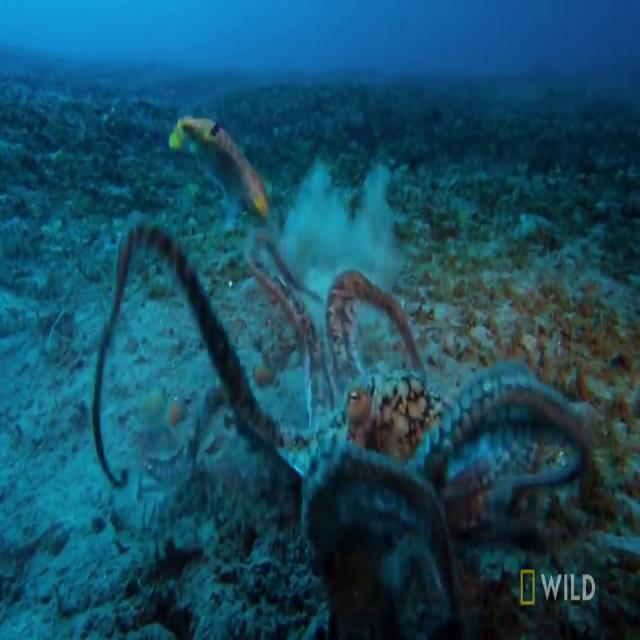octopus: (90, 197, 594, 640)
